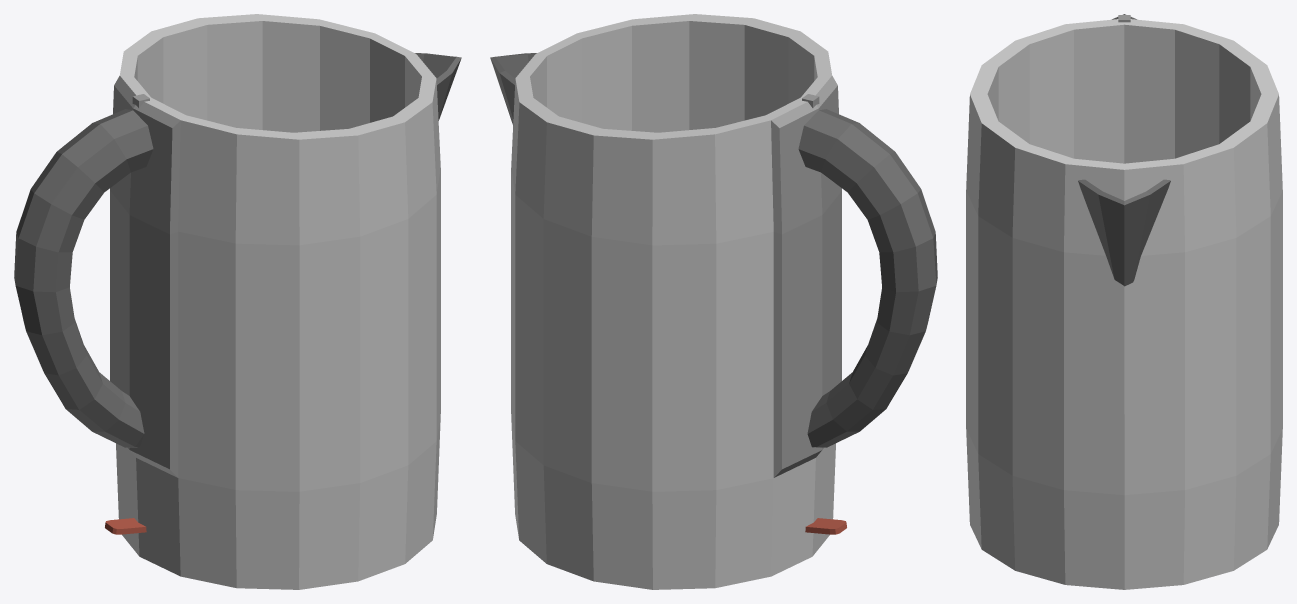
File: Kettle1_C1_01.fbx
The picture shows the model from 3 angles, left to right: view 1: azimuth 30°, elevation 25°; view 2: azimuth 150°, elevation 25°; view 3: azimuth 270°, elevation 25°; orthographic projection. The views are drawn at different scales.
Visible parts, largest first — view 1: Kettle1_C1_01; view 2: Kettle1_C1_01; view 3: Kettle1_C1_01.
Boxes of the visible parts, bbox=[...] form: Kettle1_C1_01: bbox=[14, 14, 461, 589]; Kettle1_C1_01: bbox=[490, 14, 937, 589]; Kettle1_C1_01: bbox=[966, 14, 1282, 589].
Size of the model in its own units: 41.11 by 40.38 by 26.18.
